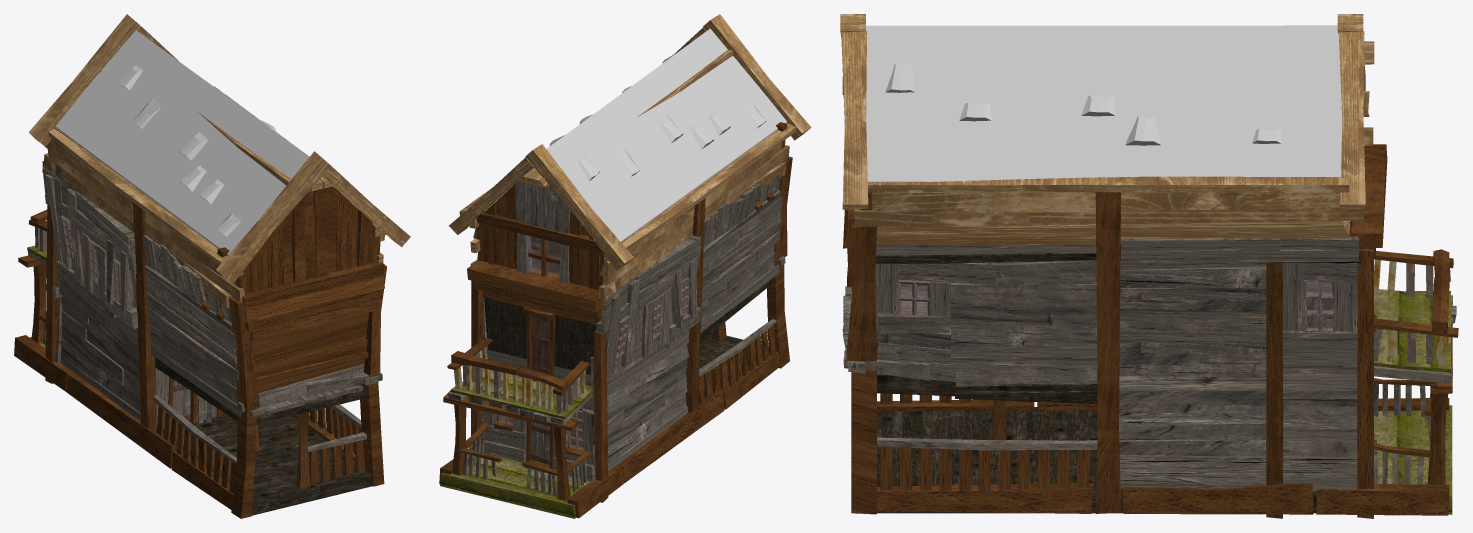
The model's file is House5LOD0.fbx.
The picture shows the model from 3 angles, left to right: view 1: azimuth 30°, elevation 25°; view 2: azimuth 150°, elevation 25°; view 3: azimuth 270°, elevation 25°; orthographic projection. The views are drawn at different scales.
Visible parts, largest first — view 1: Cube; view 2: Cube; view 3: Cube.
Boxes of the visible parts, x1,y1,x2,y2 form: Cube: (14,14,410,518); Cube: (439,14,811,518); Cube: (840,14,1458,518).
Size of the model in its own units: 785 by 1416 by 1702.
